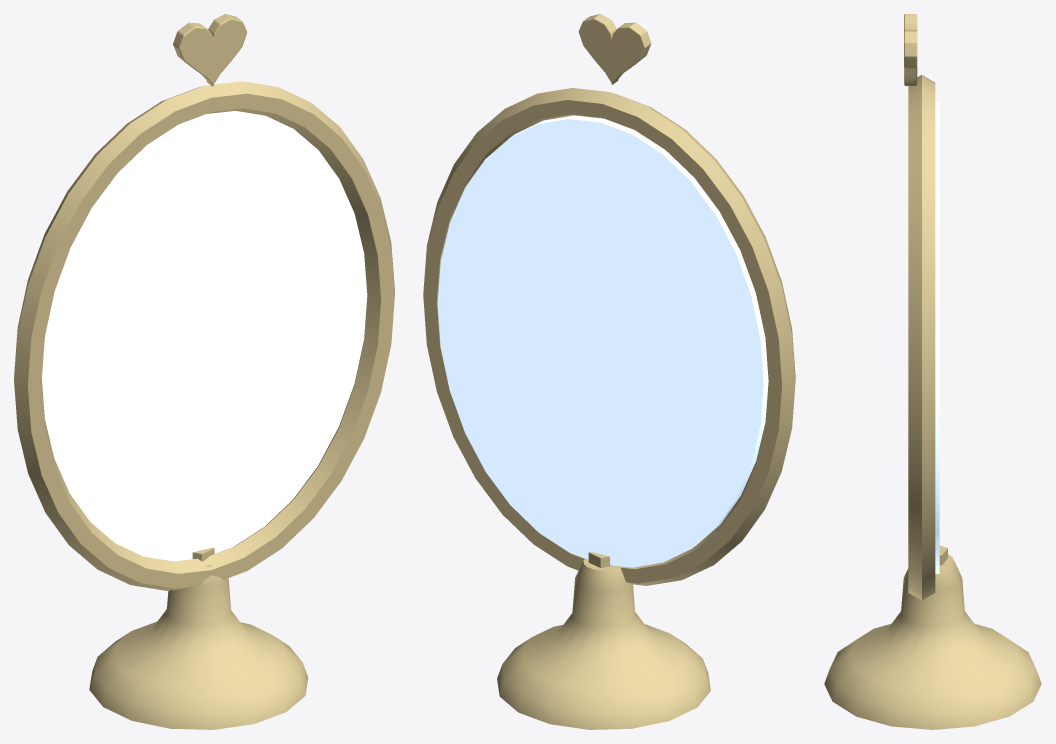
The model's file is mirror_tryon_stand.glb.
3 renders of one model, left to right at view 1: azimuth 30°, elevation 25°; view 2: azimuth 150°, elevation 25°; view 3: azimuth 270°, elevation 25°, orthographic. The views are drawn at different scales.
Parts seen in each view (by area): view 1: mirror_tryon_stand; view 2: mirror_tryon_stand; view 3: mirror_tryon_stand.
Boxes of the visible parts, left/top/right/bottom form: mirror_tryon_stand: left=14, top=14, right=394, bottom=729; mirror_tryon_stand: left=423, top=14, right=795, bottom=729; mirror_tryon_stand: left=824, top=14, right=1041, bottom=729.
Size of the model in its own units: 0.388 by 0.6613 by 0.195.
